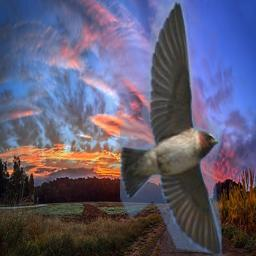Swallow: (120, 0, 222, 256)
